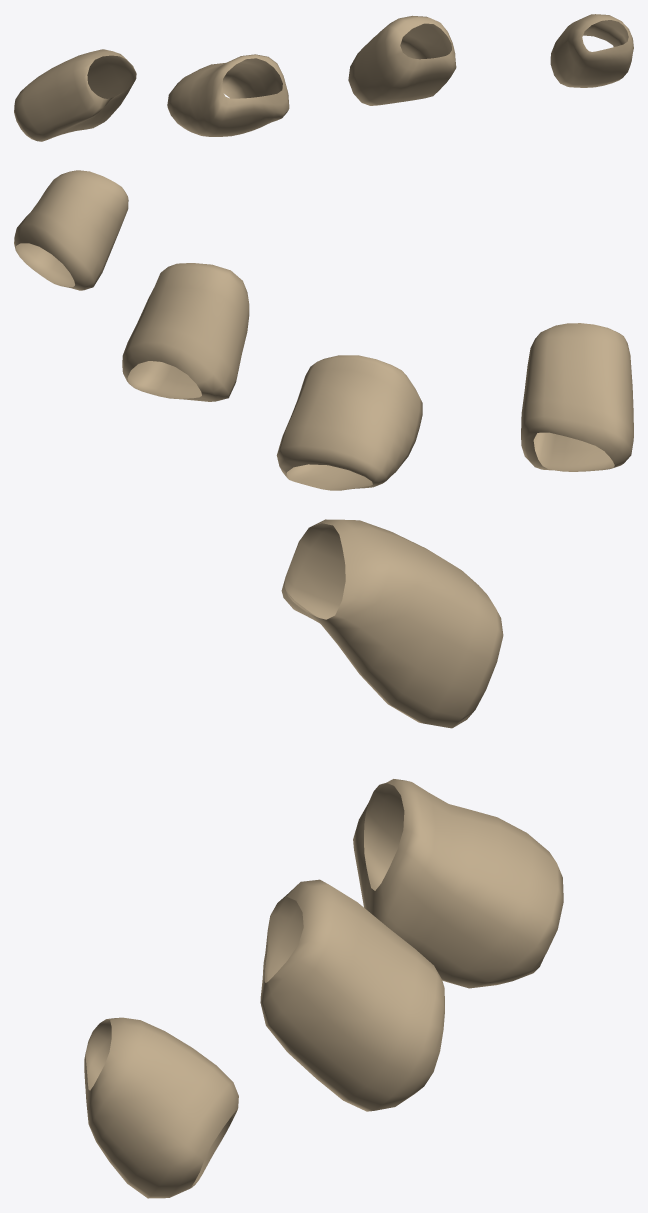
The picture shows the model from 3 angles, top to bottom: view 1: azimuth 30°, elevation 25°; view 2: azimuth 150°, elevation 25°; view 3: azimuth 270°, elevation 25°; orthographic projection. The views are drawn at different scales.
Visible parts, largest first — view 1: 右侧手近侧指间关节囊; view 2: 右侧手近侧指间关节囊; view 3: 右侧手近侧指间关节囊.
Part boxes in pixels (bbox=[...]): 右侧手近侧指间关节囊: bbox=[14, 14, 633, 141]; 右侧手近侧指间关节囊: bbox=[14, 170, 633, 490]; 右侧手近侧指间关节囊: bbox=[84, 519, 563, 1198].
Size of the model in its own units: 0.1307 by 0.0318 by 0.0498.
